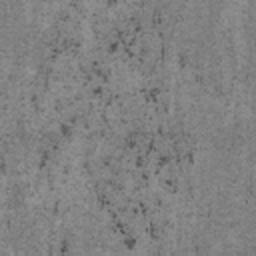Oxide scale of temperature system: (81, 60, 196, 250), (109, 8, 187, 69), (38, 115, 77, 170), (59, 236, 69, 256), (0, 150, 6, 175), (50, 46, 60, 59), (52, 201, 60, 216), (106, 0, 119, 8), (73, 42, 82, 49), (31, 95, 38, 102)
